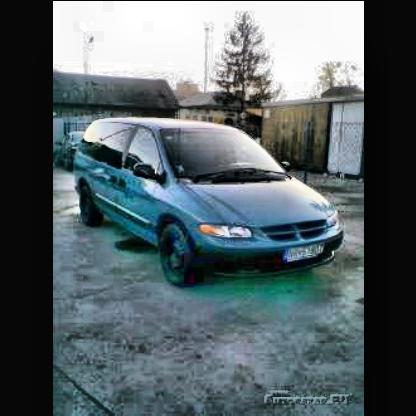Dodge Caravan Minivan 1997: (74, 119, 346, 292)
